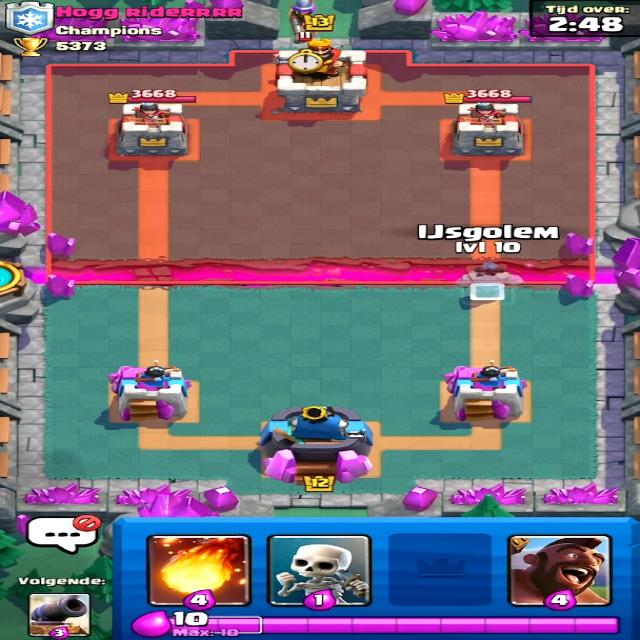Fireball_Card: (145, 532, 251, 608)
Hog_Rider_Card: (506, 537, 606, 608)
Skeleton_Card: (268, 531, 367, 604)
